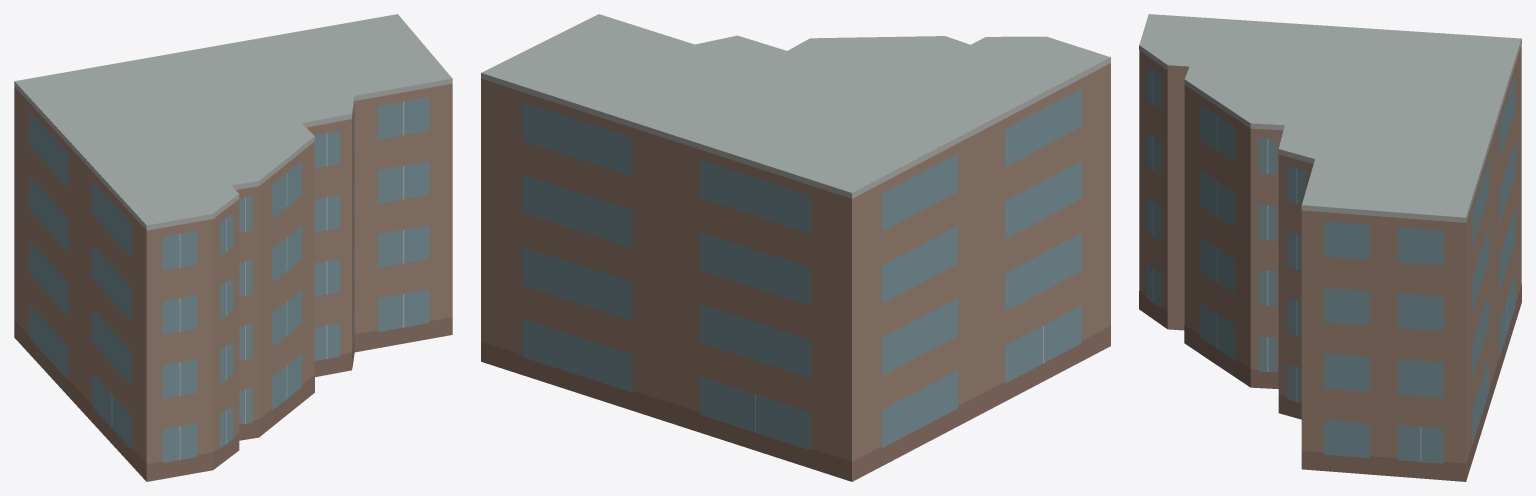
File: survey-upis-32497580.glb
The picture shows the model from 3 angles, left to right: view 1: azimuth 30°, elevation 25°; view 2: azimuth 150°, elevation 25°; view 3: azimuth 270°, elevation 25°; orthographic projection. The views are drawn at different scales.
Parts seen in each view (by area): view 1: survey-upis-32497580.tmp; view 2: survey-upis-32497580.tmp; view 3: survey-upis-32497580.tmp.
Part boxes in pixels (x1,y1,x2,y2): survey-upis-32497580.tmp: (14, 14, 452, 481); survey-upis-32497580.tmp: (481, 14, 1110, 481); survey-upis-32497580.tmp: (1139, 14, 1521, 481).
Size of the model in its own units: 20.18 by 12.2 by 16.02.
